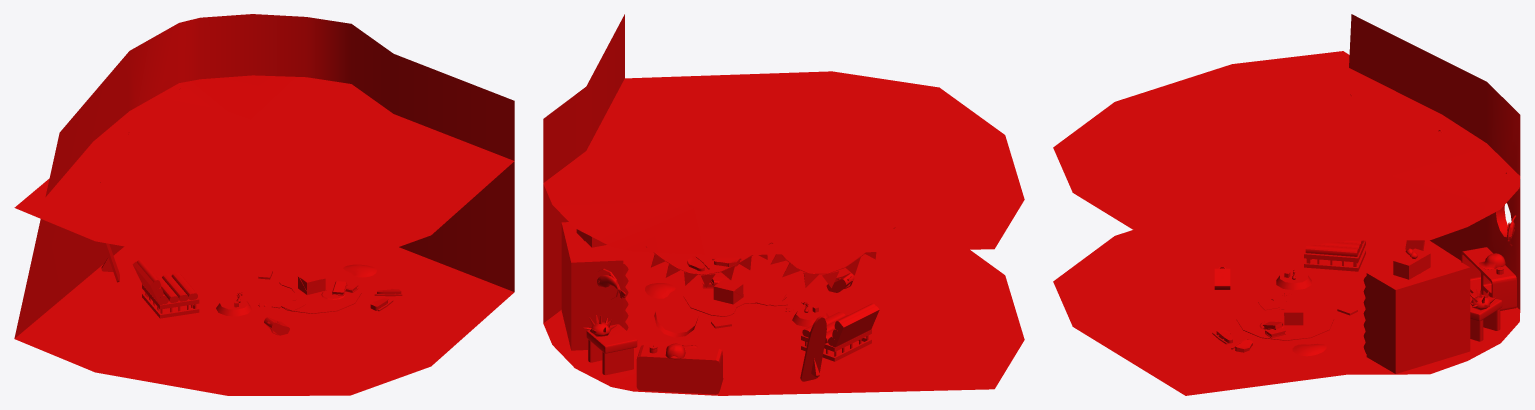
Rendered from DressUp_Neutral_01.glb.
3 views of the same model, side by side, from view 1: azimuth 30°, elevation 25°; view 2: azimuth 150°, elevation 25°; view 3: azimuth 270°, elevation 25° (orthographic). The views are drawn at different scales.
Visible parts, largest first — view 1: Walls1, Ceiling, Items; view 2: Ceiling, Walls1, Items; view 3: Ceiling, Walls1, Items.
Boxes of the visible parts, <box> form: Walls1: <box>14,14,514,395</box>; Ceiling: <box>14,75,514,264</box>; Items: <box>100,88,402,335</box>; Ceiling: <box>543,71,1024,255</box>; Walls1: <box>543,14,1024,395</box>; Items: <box>561,222,895,394</box>; Ceiling: <box>1053,51,1520,261</box>; Walls1: <box>1053,14,1520,395</box>; Items: <box>1212,94,1516,373</box>.
Size of the model in its own units: 11.79 by 5.18 by 11.05.
